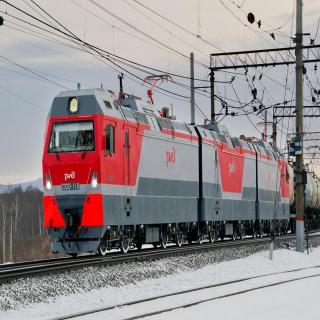poezd: (47, 91, 288, 245)
